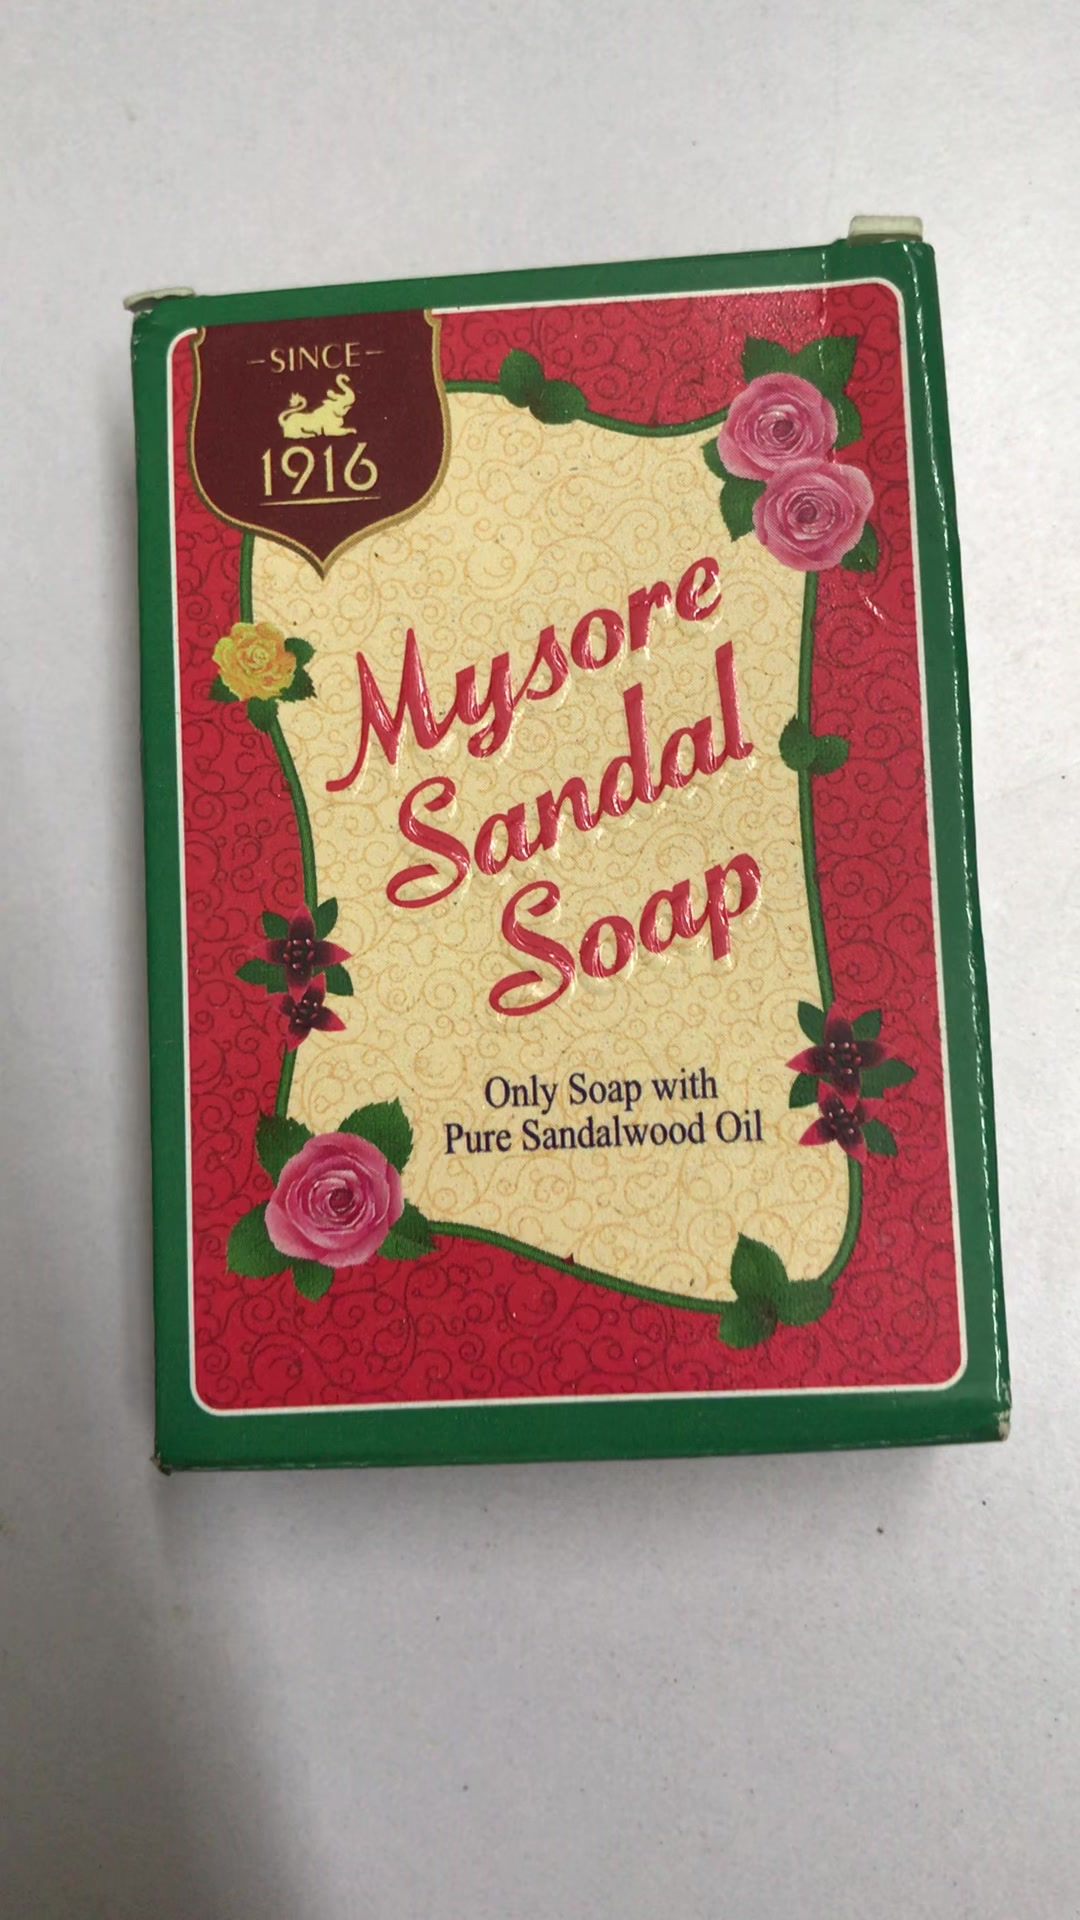mysore sandal soap: (136, 256, 1007, 1456)
